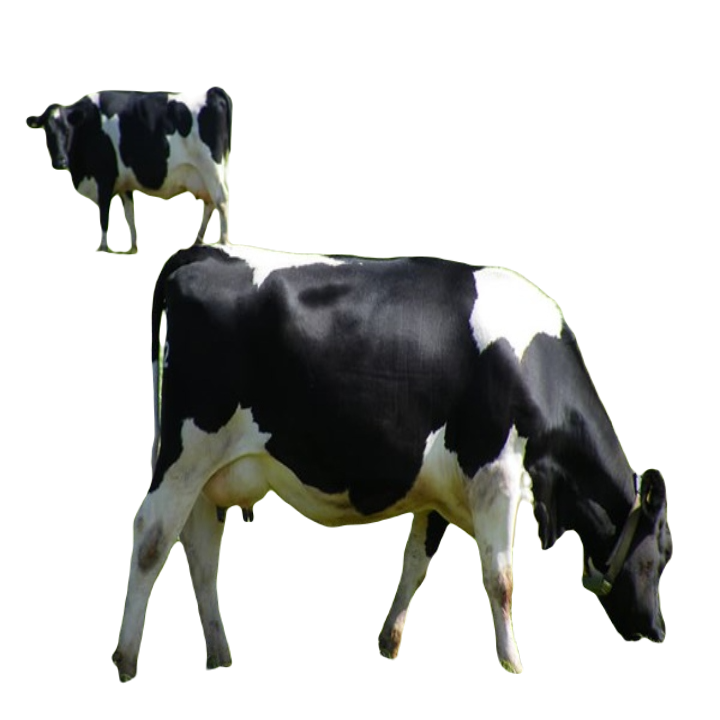Cow: (104, 250, 673, 680), (26, 80, 239, 241)
